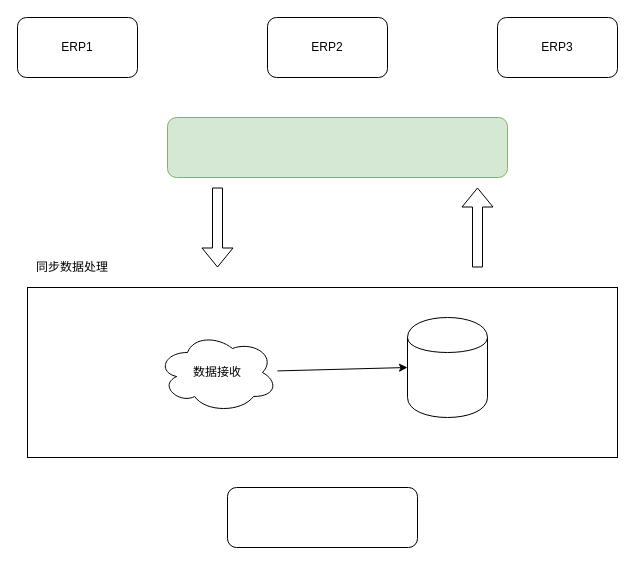
Some shapes in this 635 by 565 pixel diagram are drawn without their labels. The shapes that lost their labels are listed below. From the top down, each one's box as (x1, y1, x2, y2) in pixels, then its label:
(166, 116, 508, 178): 数据同步客户端
(406, 316, 488, 418): 列队
